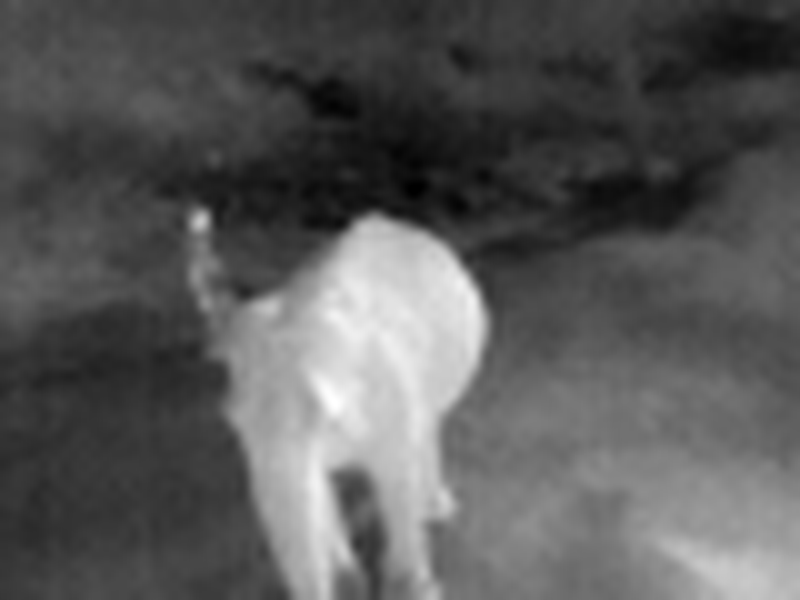elephant: (197, 224, 554, 600)
